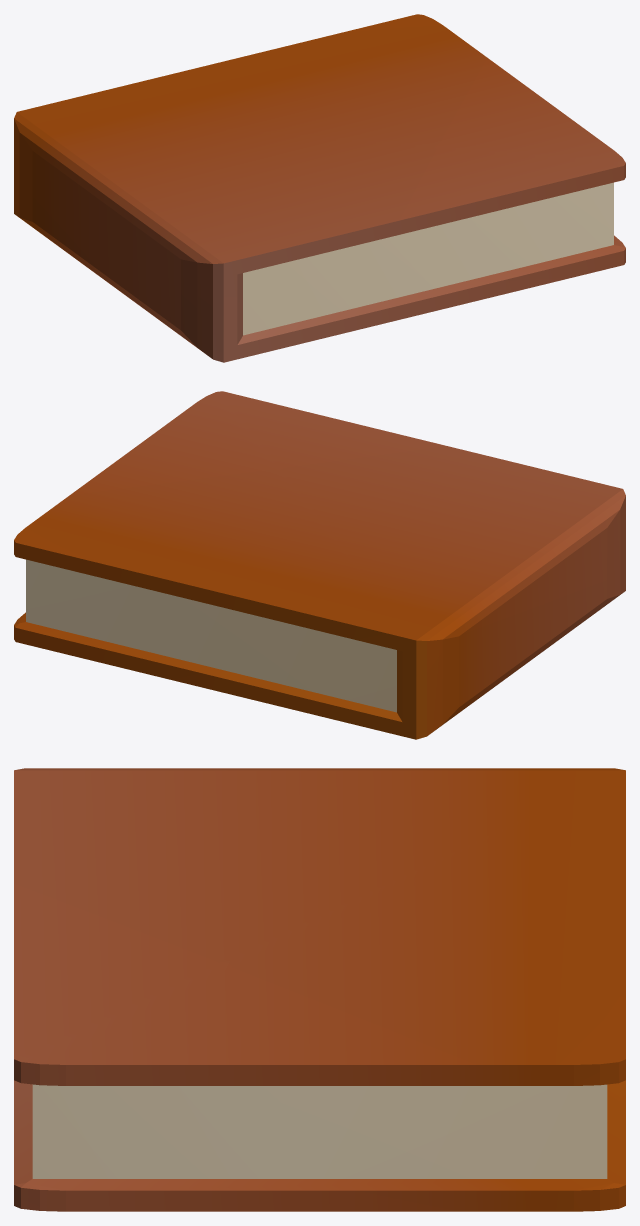
File: maze piece book laying  wizards table clutterT1.fbx
3 renders of one model, top to bottom at view 1: azimuth 30°, elevation 25°; view 2: azimuth 150°, elevation 25°; view 3: azimuth 270°, elevation 25°, orthographic. The views are drawn at different scales.
Visible parts, largest first — view 1: FrMaz Book laying down; view 2: FrMaz Book laying down; view 3: FrMaz Book laying down.
Boxes of the visible parts, bbox=[...] form: FrMaz Book laying down: bbox=[14, 14, 625, 362]; FrMaz Book laying down: bbox=[14, 391, 625, 739]; FrMaz Book laying down: bbox=[14, 768, 625, 1211].
Bounding box in the file's own units: 890 × 200 × 756.
